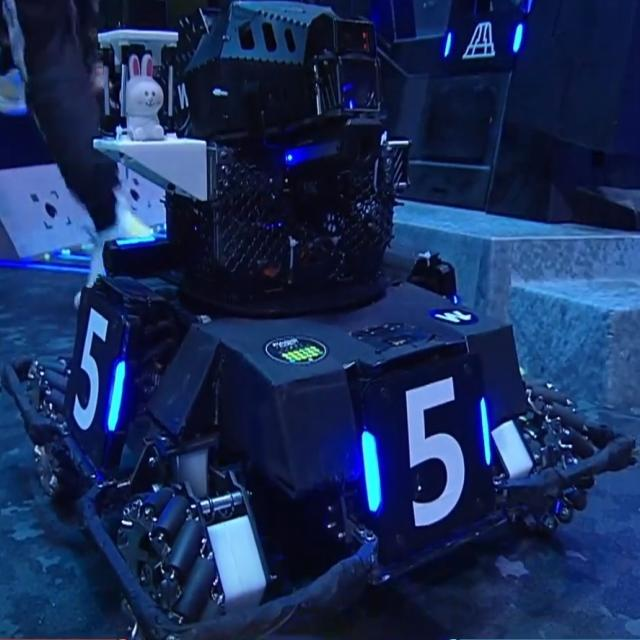B5: (361, 376, 493, 528), (65, 284, 131, 453)
